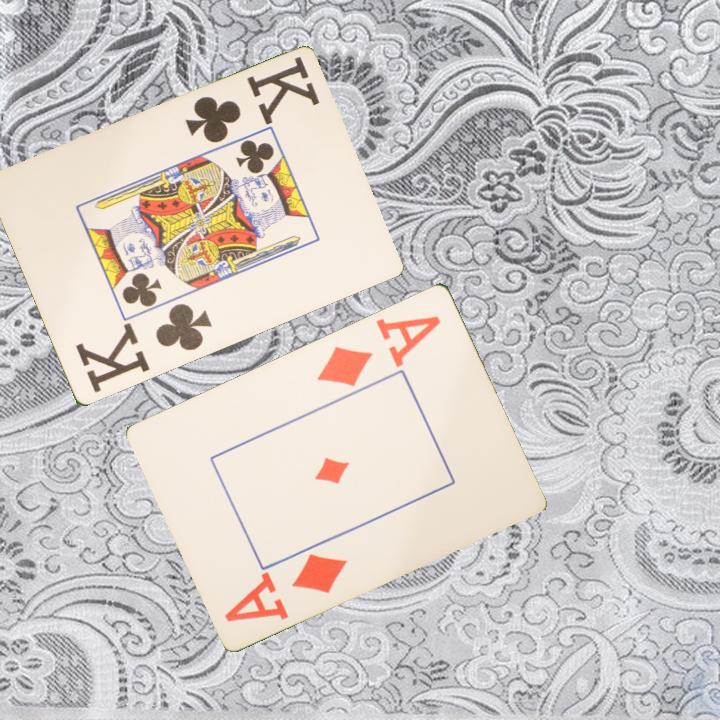Ad: (313, 311, 444, 389), (221, 549, 351, 625)
Kc: (71, 300, 215, 397), (181, 53, 322, 147)
